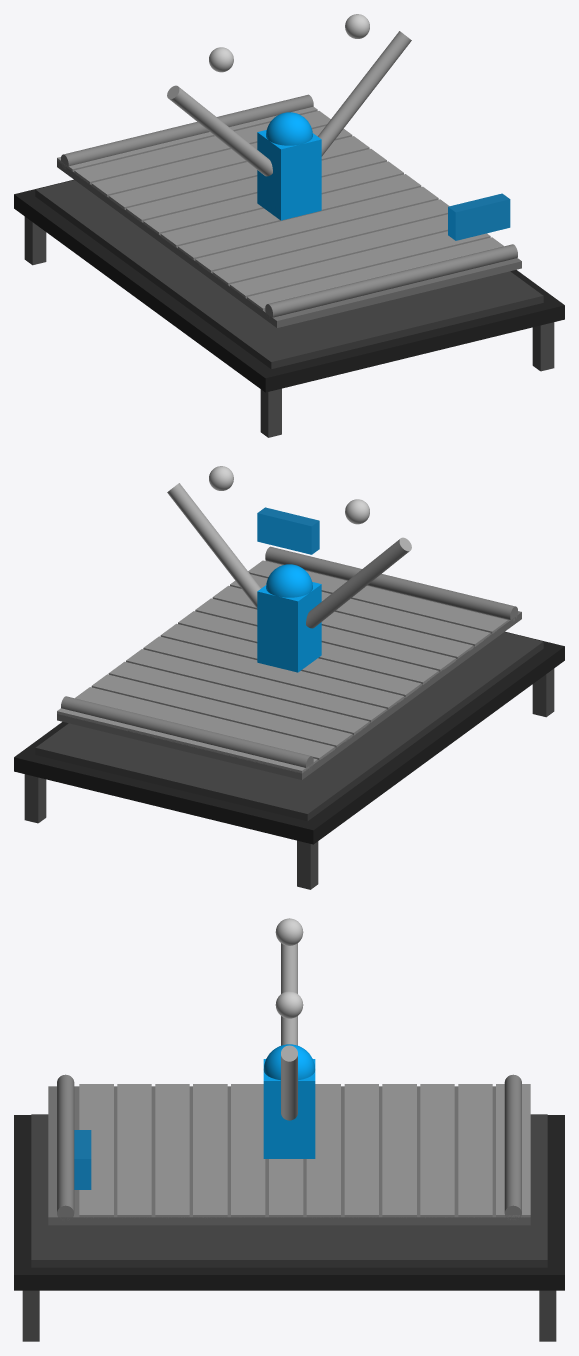
The model's file is spawner.gltf.
The picture shows the model from 3 angles, top to bottom: view 1: azimuth 30°, elevation 25°; view 2: azimuth 150°, elevation 25°; view 3: azimuth 270°, elevation 25°; orthographic projection. The views are drawn at different scales.
Bounding box in the file's own units: 2.2 × 1.98 × 3.2.
